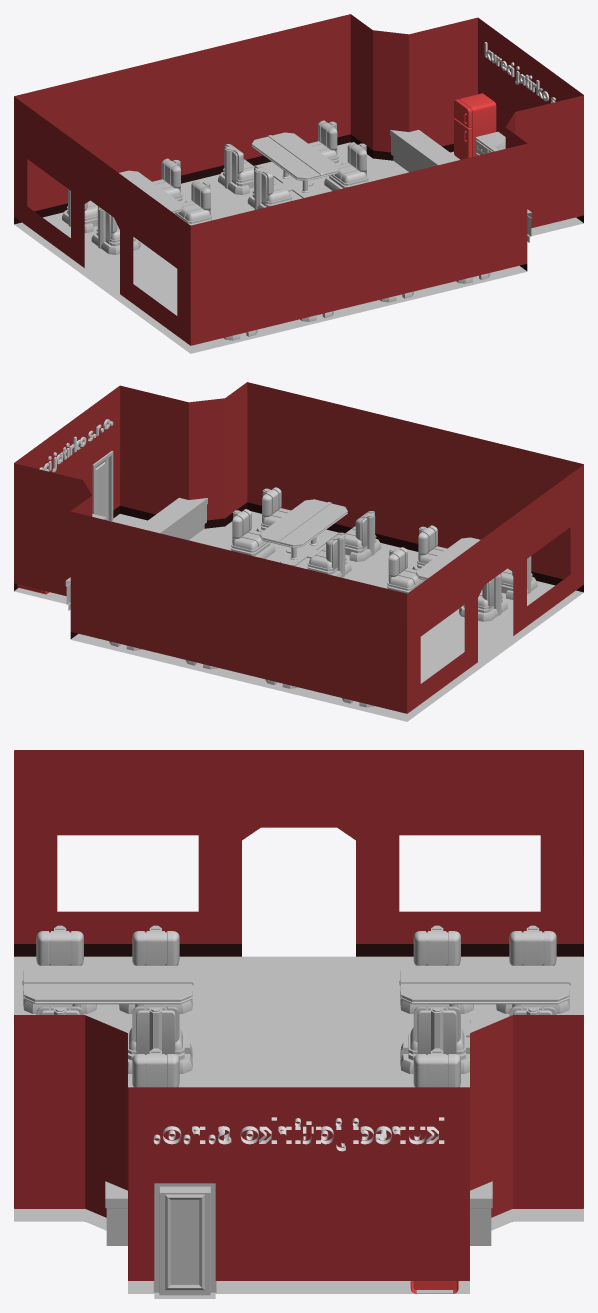
Rendered from jatirko.fbx.
3 renders of one model, top to bottom at view 1: azimuth 30°, elevation 25°; view 2: azimuth 150°, elevation 25°; view 3: azimuth 270°, elevation 25°, orthographic. The views are drawn at different scales.
Parts seen in each view (by area): view 1: jatirko floor, sci-fi chair.001, canteen table, jatirko pult, fridge, kureci jatirko.001, fridge door, counter sink; view 2: jatirko floor, sci-fi chair.001, canteen table, jatirko pult, jatirko back door, kureci jatirko.001; view 3: jatirko floor, sci-fi chair.001, canteen table, jatirko back door, kureci jatirko.001, jatirko pult.
Boxes of the visible parts, left/top/right/bottom form: jatirko floor: left=14, top=14, right=583, bottom=353; sci-fi chair.001: left=62, top=120, right=490, bottom=340; canteen table: left=119, top=132, right=339, bottom=213; jatirko pult: left=390, top=129, right=532, bottom=242; fridge: left=458, top=93, right=496, bottom=156; kureci jatirko.001: left=484, top=42, right=555, bottom=102; fridge door: left=454, top=118, right=471, bottom=159; counter sink: left=475, top=131, right=505, bottom=155; jatirko floor: left=14, top=382, right=583, bottom=721; sci-fi chair.001: left=109, top=487, right=537, bottom=707; canteen table: left=259, top=499, right=480, bottom=580; jatirko pult: left=65, top=497, right=207, bottom=610; jatirko back door: left=92, top=451, right=113, bottom=521; kureci jatirko.001: left=39, top=419, right=113, bottom=472; jatirko floor: left=14, top=750, right=583, bottom=1298; sci-fi chair.001: left=23, top=925, right=569, bottom=1087; canteen table: left=22, top=965, right=570, bottom=1037; jatirko back door: left=153, top=1183, right=216, bottom=1295; kureci jatirko.001: left=153, top=1117, right=444, bottom=1151; jatirko pult: left=105, top=1181, right=492, bottom=1245.
Size of the model in its own units: 1420 by 400 by 1000.
